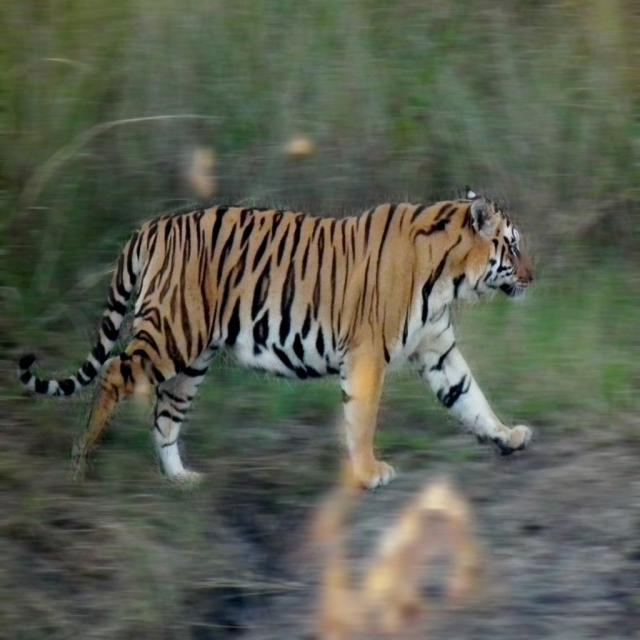Tiger: (16, 185, 535, 485)
